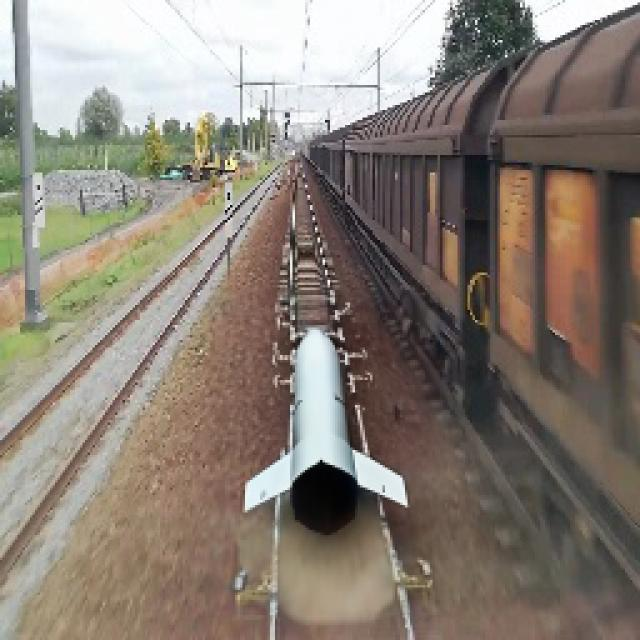danger: (242, 323, 414, 547)
rail: (222, 152, 456, 640)
